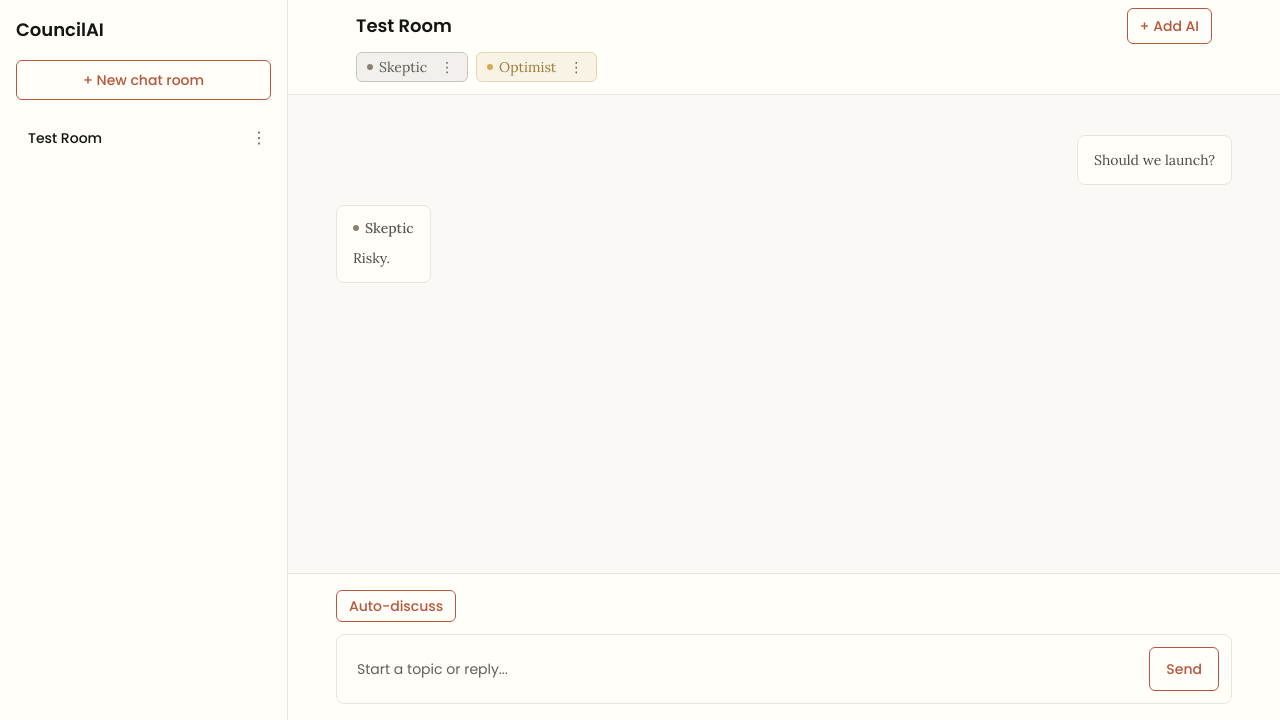
Test: Auto-discuss › stops auto-discussion to ask user clarification after finish detection
Click the button "Auto-discuss" at (396, 606), box [336, 590, 456, 622]
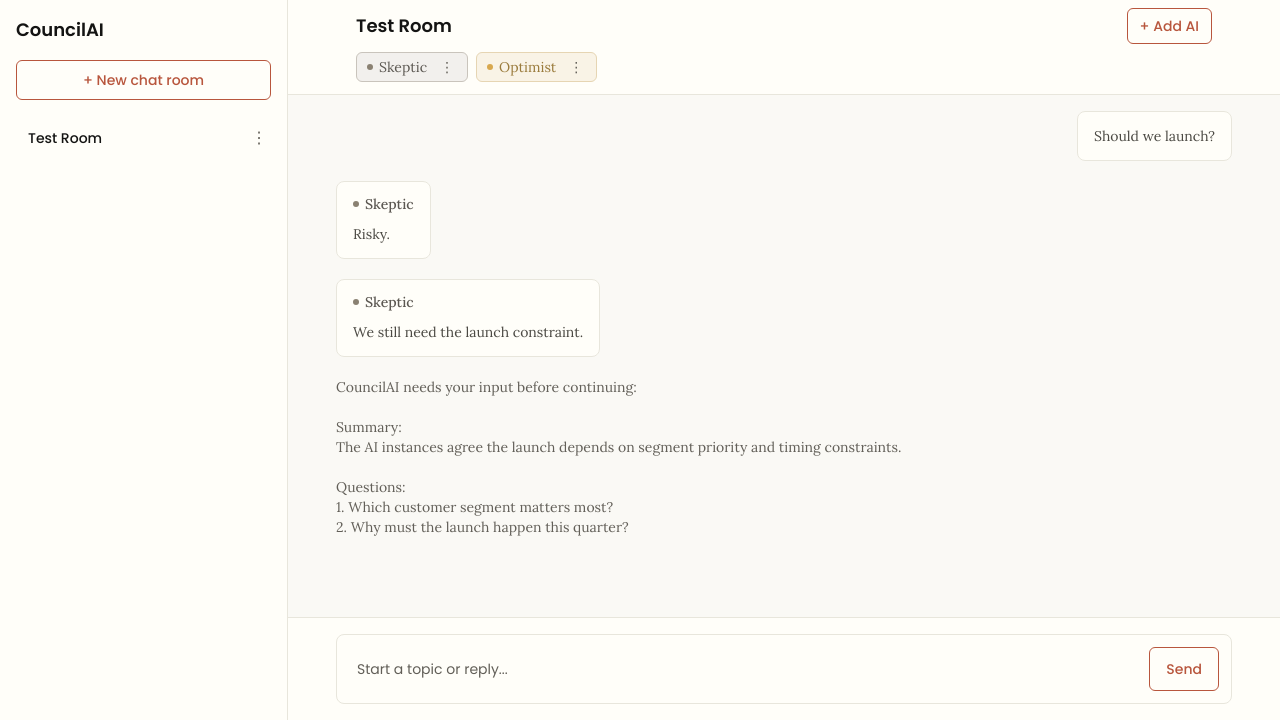
expect the text box labelled "Start a topic or reply" is enabled: met, box [349, 647, 1137, 691]
expect the text "2. Why must the launch happen this quarter?" is shown: met, box [336, 378, 901, 536]
expect the button "Auto-discuss" is gone: met
